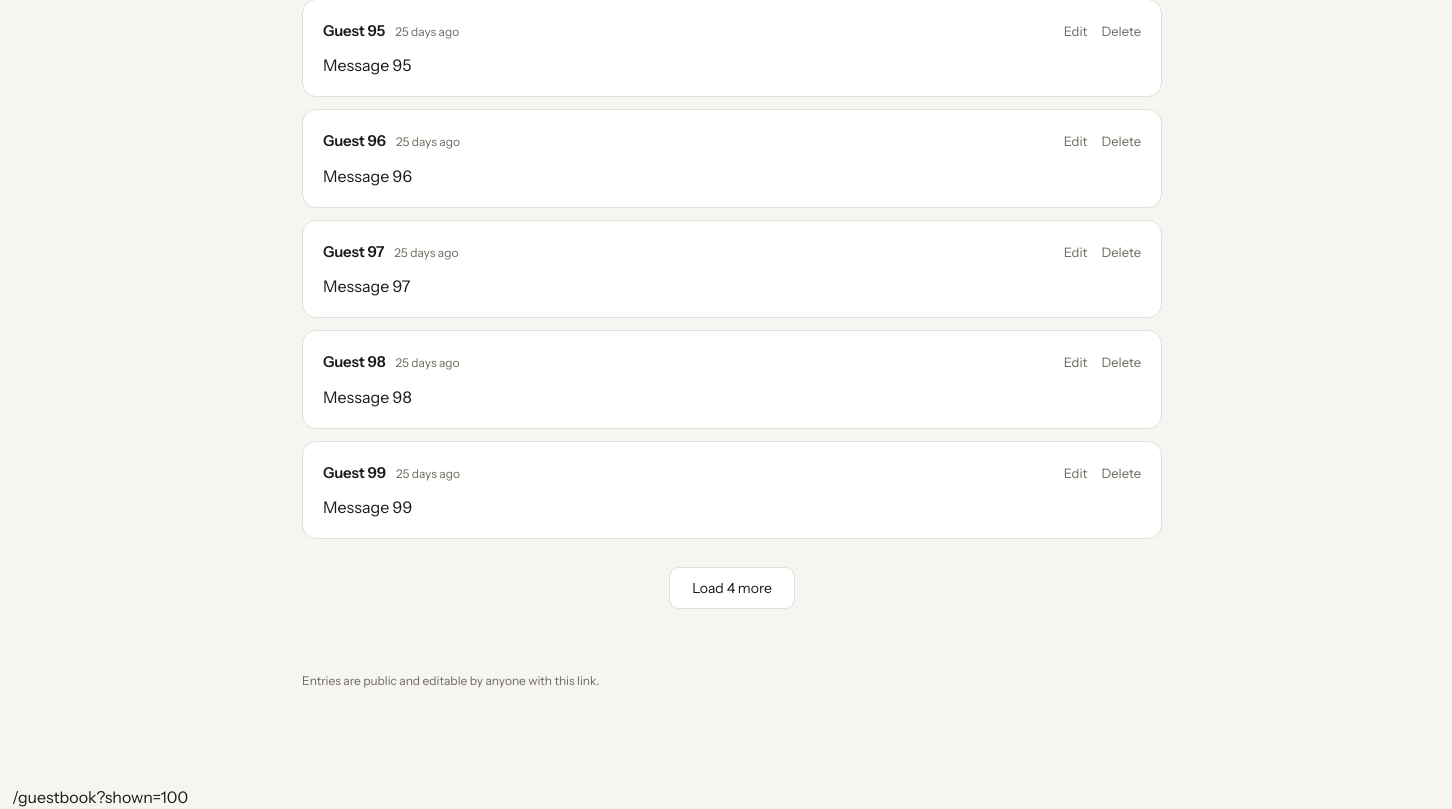
Test case: past the ceiling on one request › reaches the last entry, each one exactly once [req:CR-2609-9b1e/R-7]
(page scrolled)
Click the button "Load 4 more" at (732, 588), box [669,567,795,609]
(page scrolled)
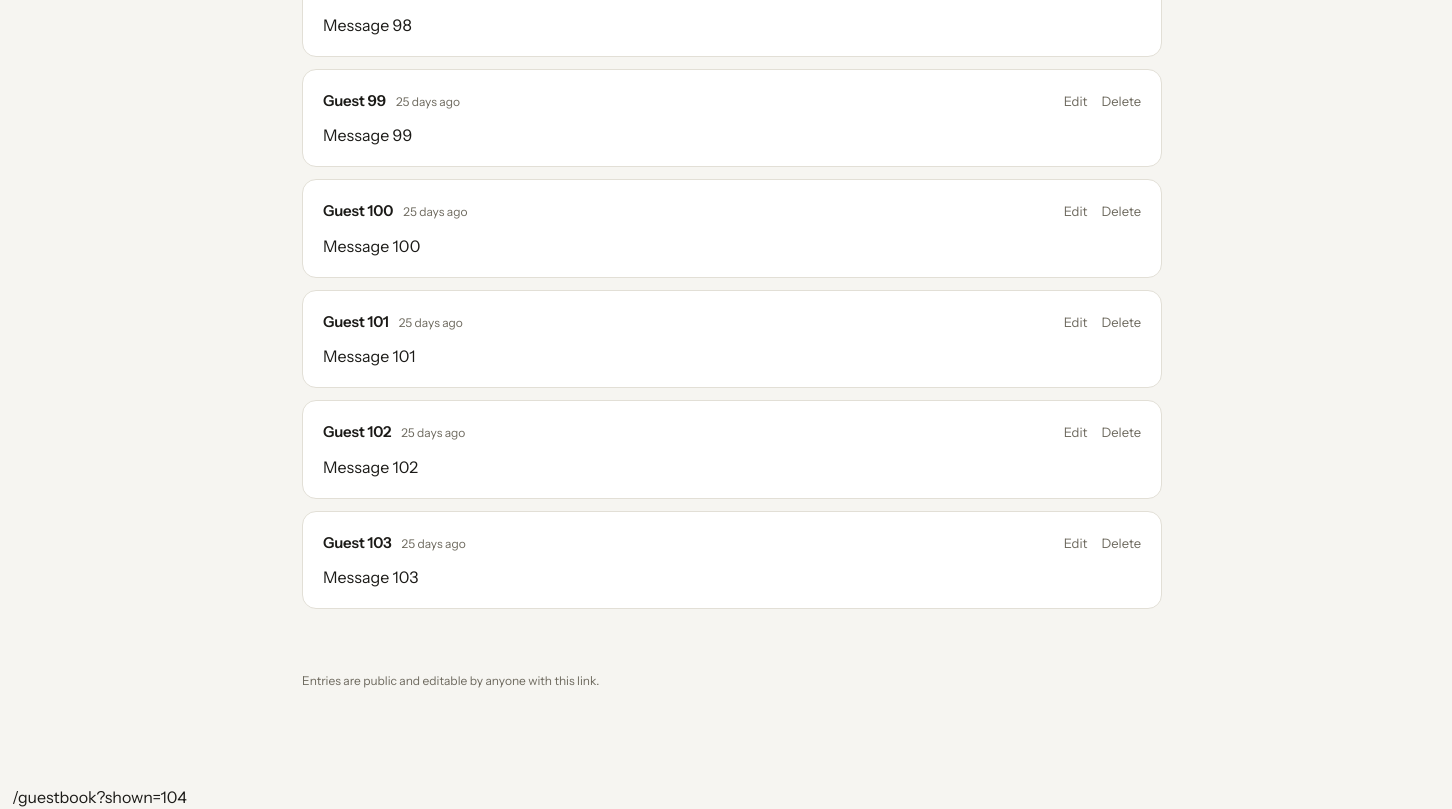
Result: the text "Guest 103" is shown at [323,532,392,554]
